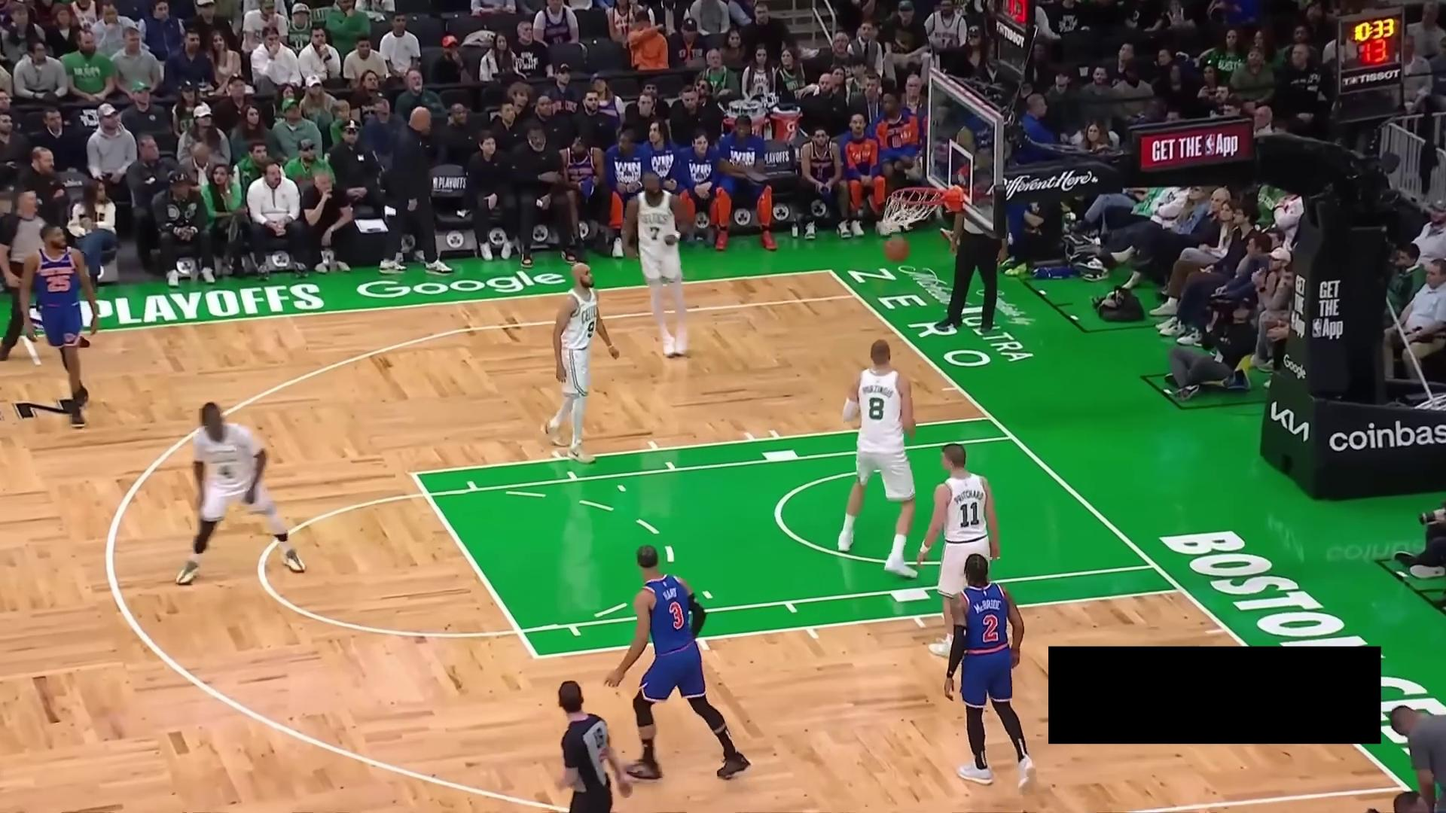ball: (884, 234, 911, 262)
number: (667, 601, 687, 631), (958, 500, 978, 527), (868, 396, 886, 421), (47, 274, 70, 292), (984, 613, 998, 640), (647, 225, 662, 242), (586, 318, 598, 339)
player: (607, 544, 752, 782), (175, 401, 307, 587), (943, 554, 1035, 791), (836, 339, 921, 579), (17, 221, 99, 427), (543, 258, 620, 464), (928, 442, 1001, 657), (629, 171, 690, 357)
referee: (940, 179, 1009, 335), (556, 679, 631, 813), (1, 185, 49, 363)
rim: (888, 186, 946, 208)
